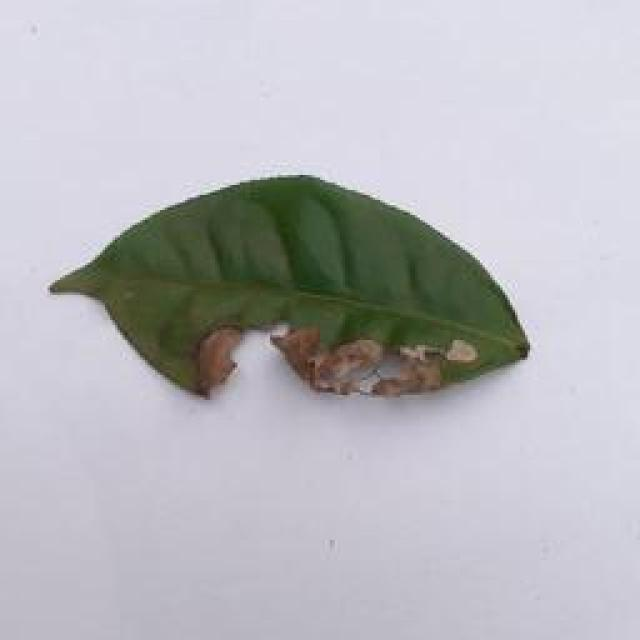Gray Blight: (33, 166, 549, 409)
